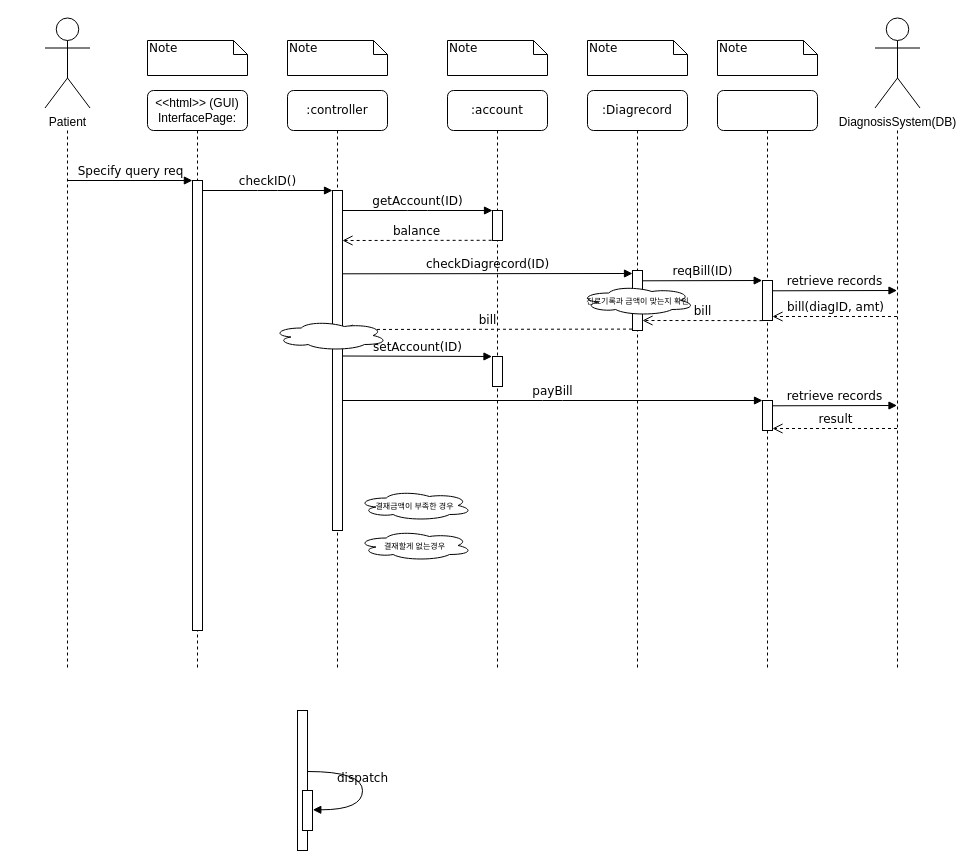
Some shapes in this 973 by 868 pixel diagram are drawn without their labels. The centre of each missing label's shape, as x and y in pixels:
":DsysConnection" belongs at (767,380).
"bill amt 차감후 balance갱신" belongs at (330,335).
